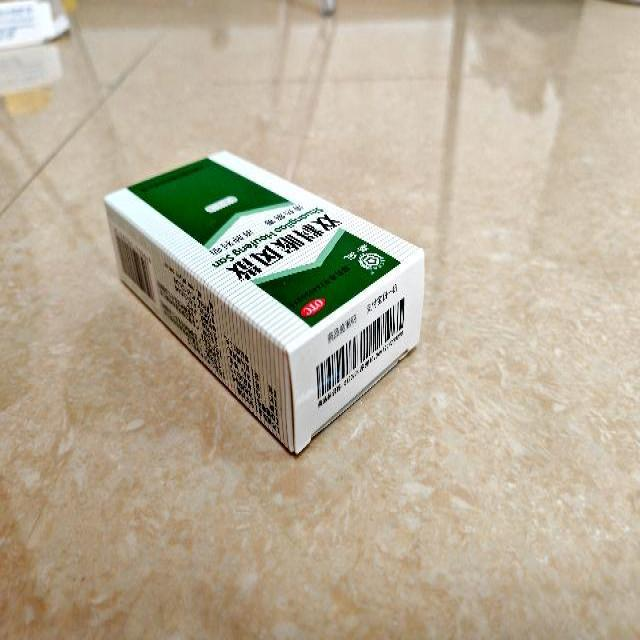box: (104, 150, 426, 453)
